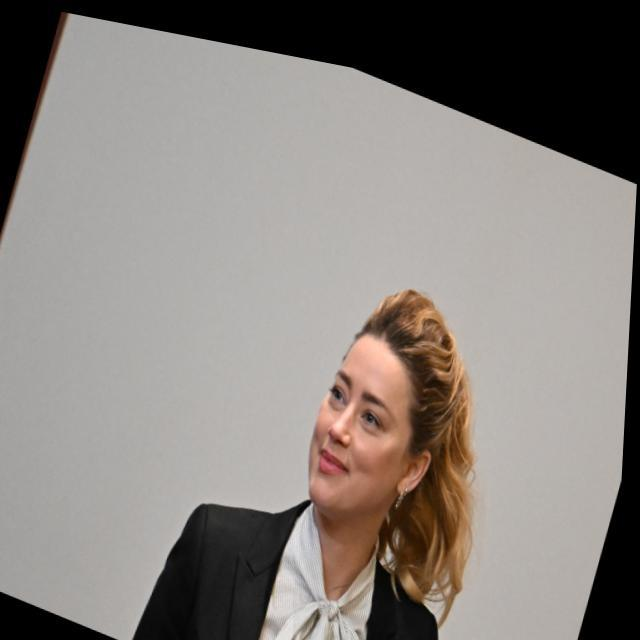Nonhelmet: (302, 285, 479, 530)
